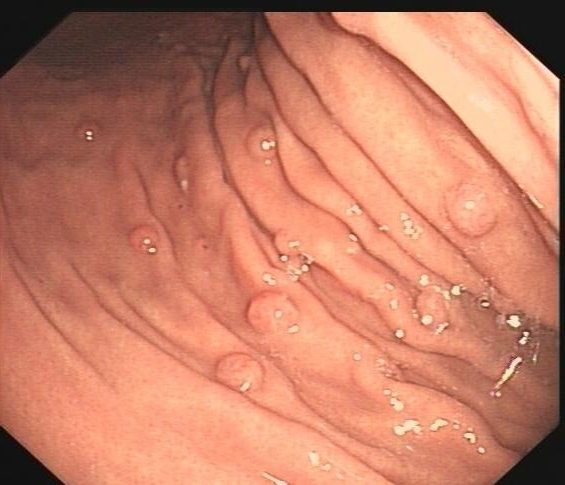Polyp: (442, 182, 500, 241)
